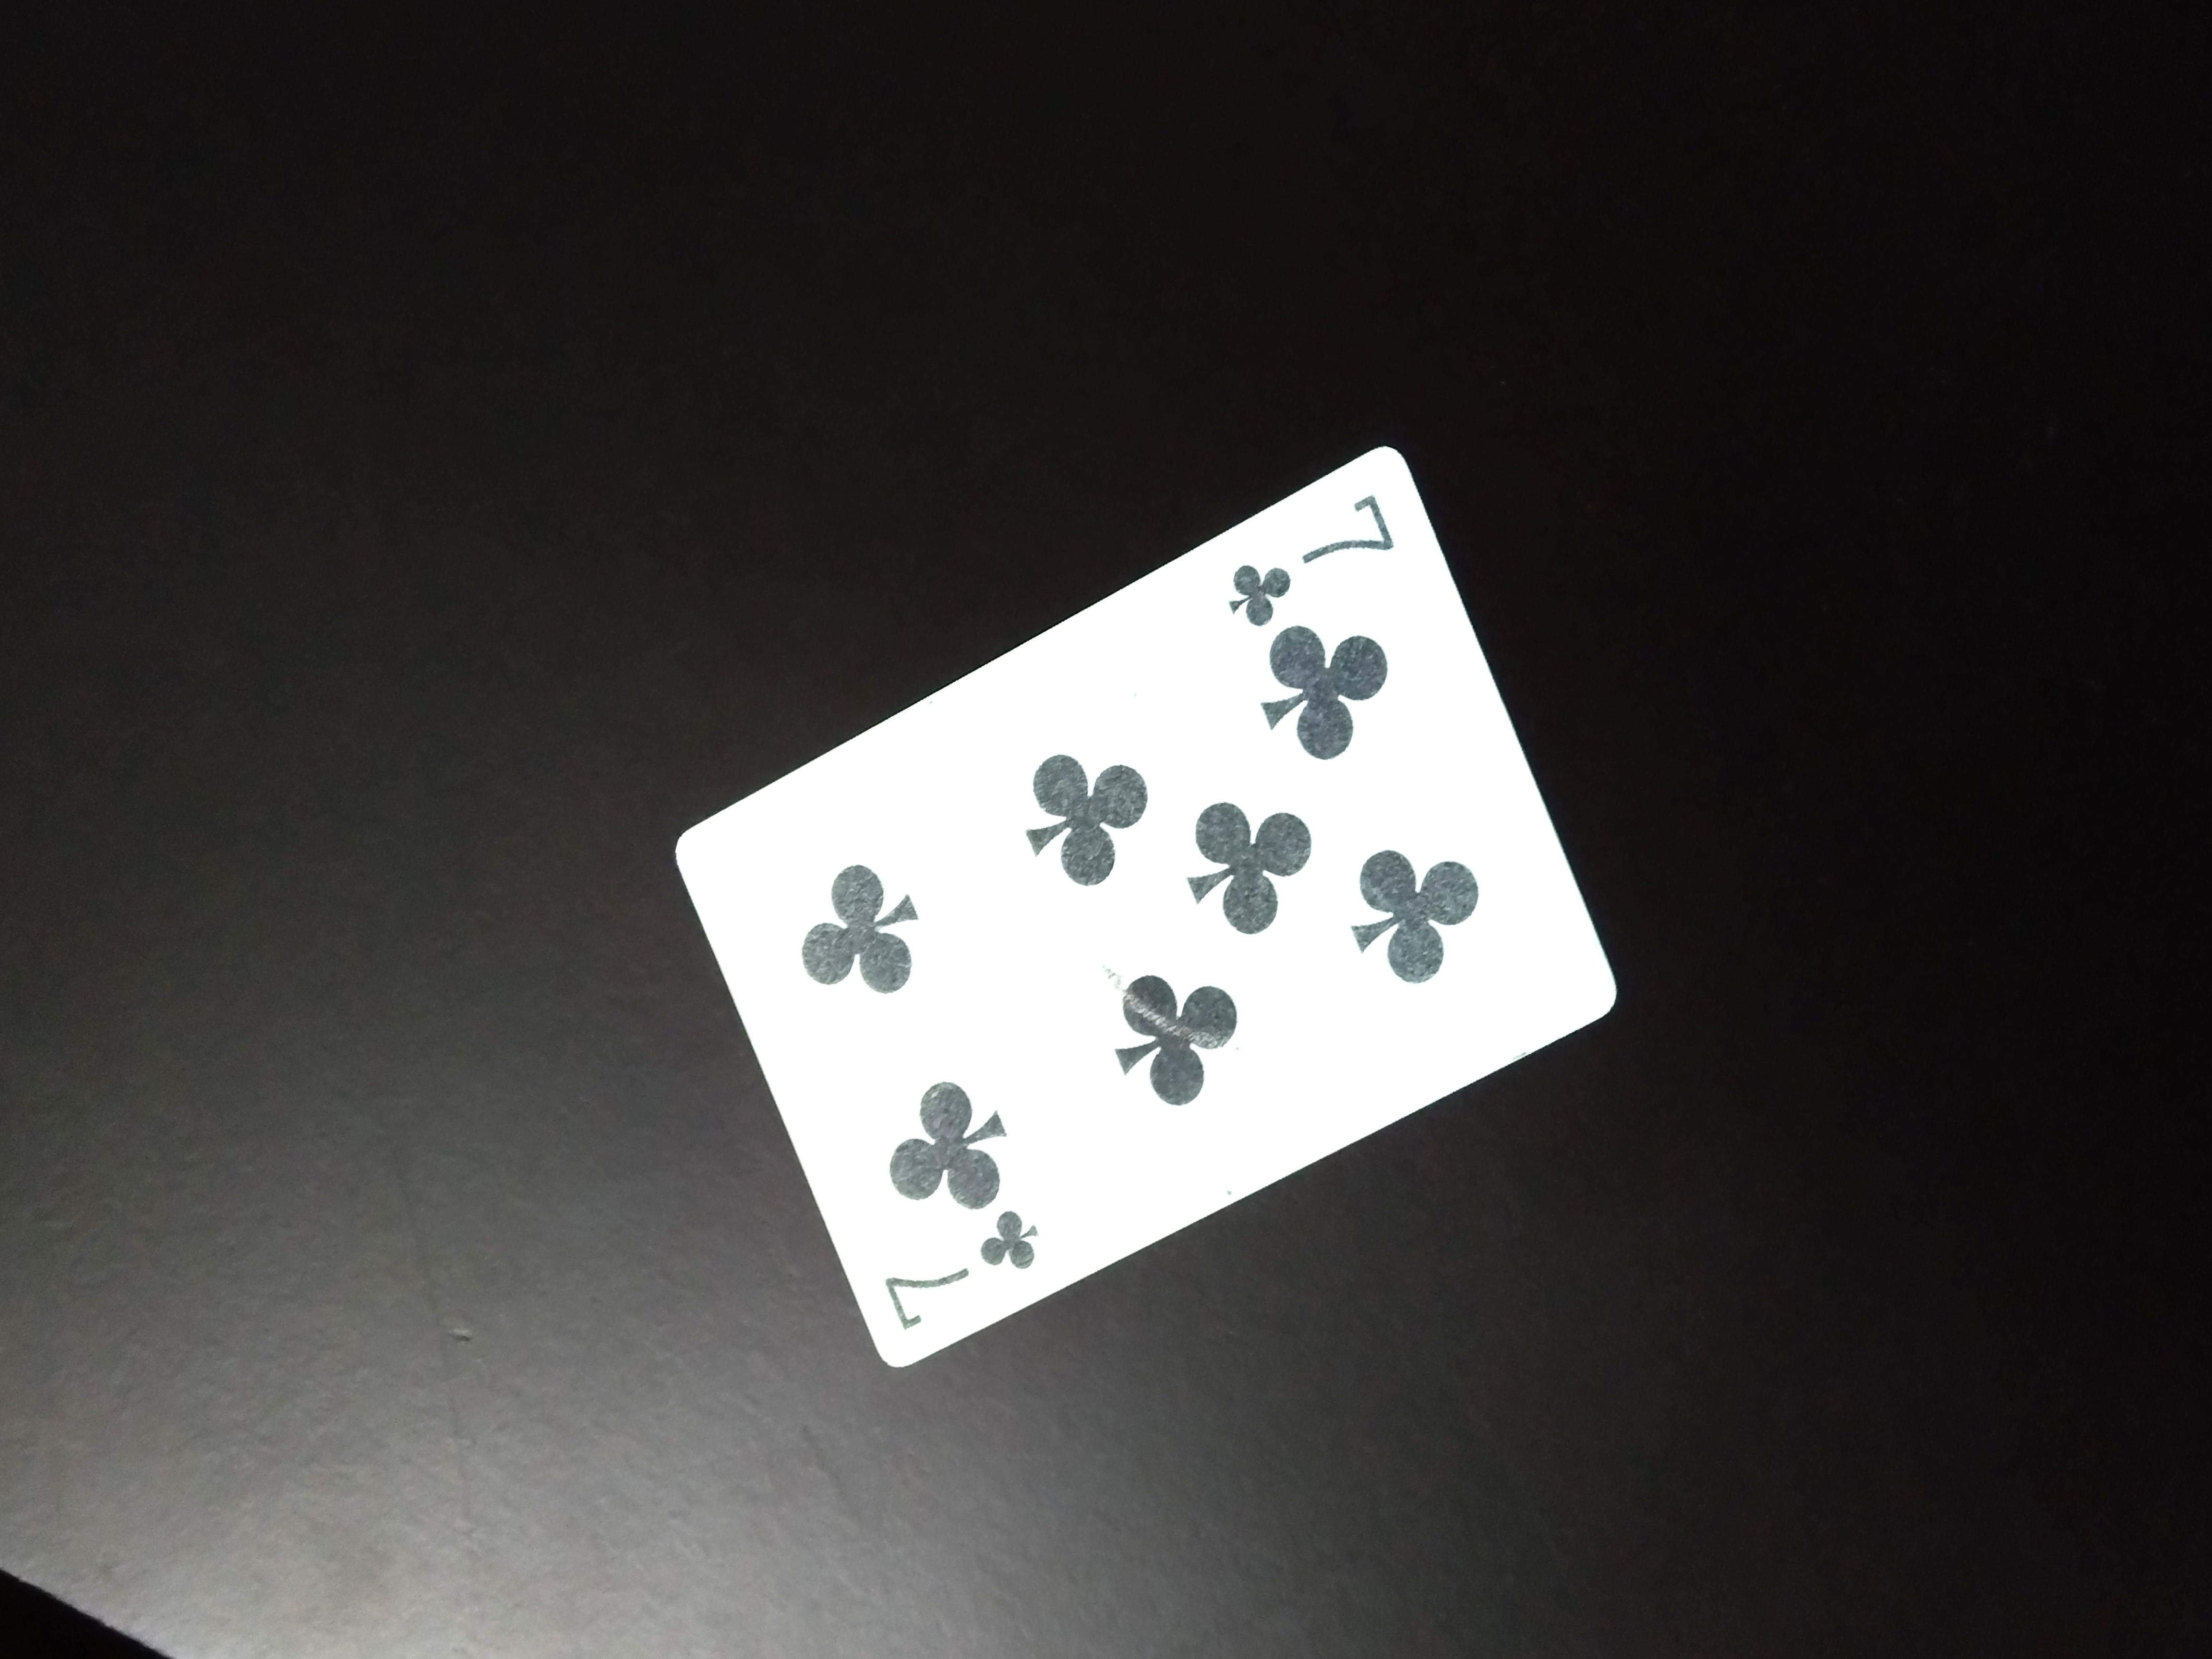7C: (1224, 483, 1402, 634)
